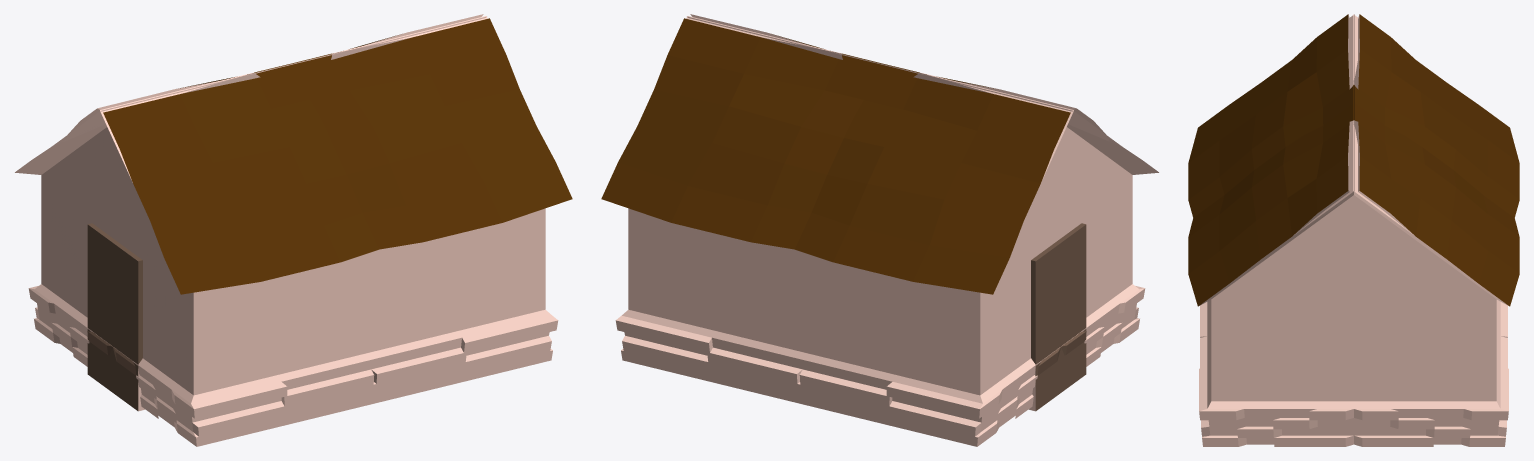
Rendered from Town_House2.fbx.
3 renders of one model, left to right at view 1: azimuth 30°, elevation 25°; view 2: azimuth 150°, elevation 25°; view 3: azimuth 270°, elevation 25°, orthographic. The views are drawn at different scales.
Parts seen in each view (by area): view 1: Cube; view 2: Cube; view 3: Cube.
Boxes of the visible parts, bbox=[...] form: Cube: bbox=[15, 14, 572, 446]; Cube: bbox=[601, 14, 1158, 446]; Cube: bbox=[1188, 14, 1519, 446].
Bounding box in the file's own units: 891 × 620 × 697.
